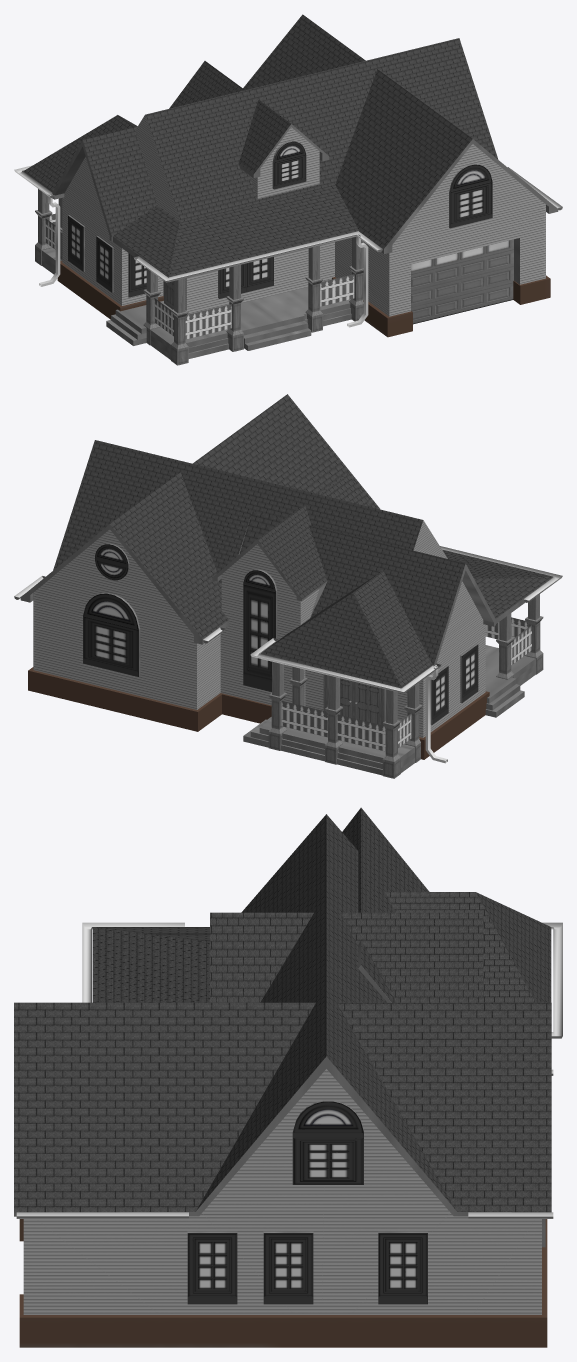
The model's file is house_1.glb.
3 views of the same model, one above another, from view 1: azimuth 30°, elevation 25°; view 2: azimuth 150°, elevation 25°; view 3: azimuth 270°, elevation 25° (orthographic). The views are drawn at different scales.
Visible parts, largest first — view 1: uitt002; view 2: uitt002; view 3: uitt002.
Boxes of the visible parts, left/top/right/bottom form: uitt002: left=14, top=14, right=562, bottom=365; uitt002: left=14, top=394, right=562, bottom=778; uitt002: left=14, top=807, right=562, bottom=1347.
Size of the model in its own units: 10.99 by 5.12 by 8.62.
Materials: 1 (1 with a texture image).
